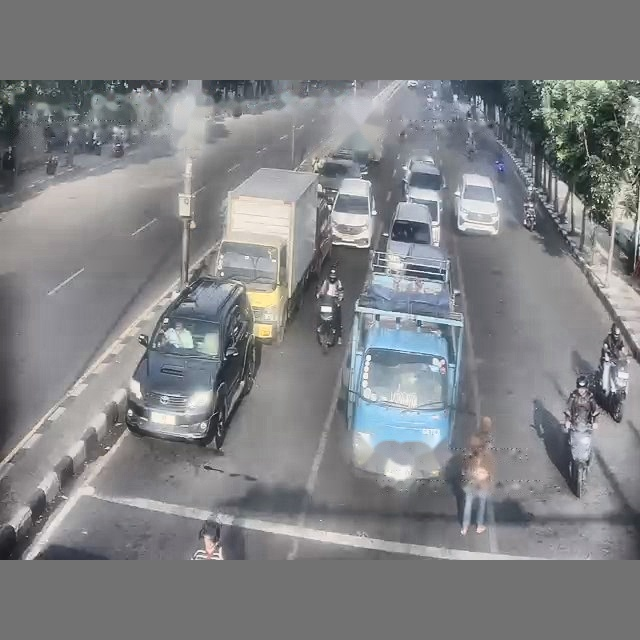Mobil: (125, 276, 255, 447), (402, 159, 445, 245), (383, 202, 432, 271), (331, 179, 376, 248), (455, 174, 500, 235), (313, 157, 361, 202), (405, 150, 436, 169), (407, 80, 417, 88)
Motor: (565, 411, 597, 497), (597, 353, 628, 422), (316, 295, 337, 353), (523, 202, 537, 231), (495, 160, 505, 182)
Truk: (344, 261, 464, 483), (214, 168, 330, 343)
